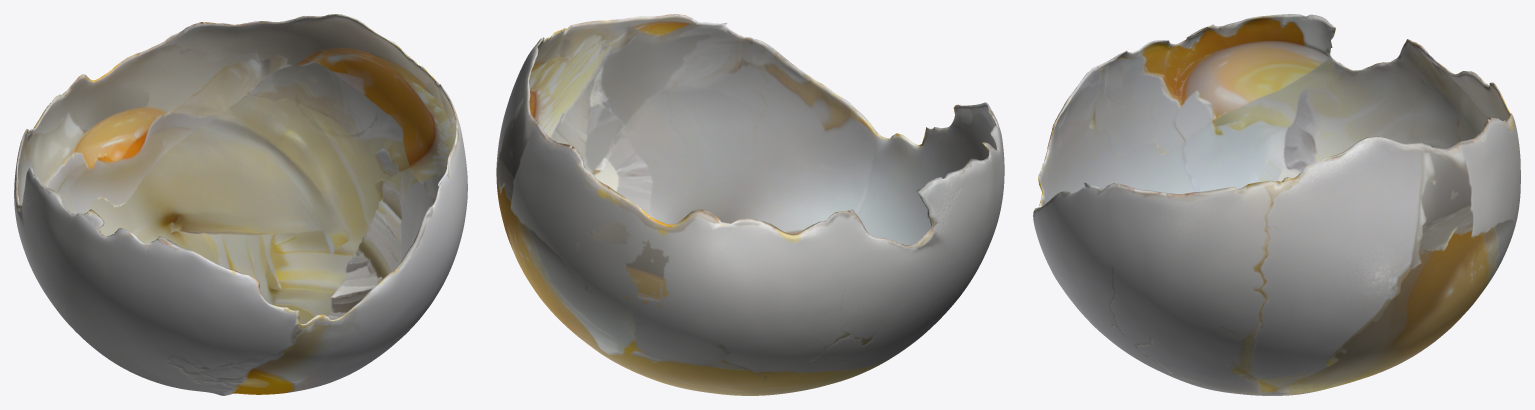
File: Cake2.fbx
3 views of the same model, side by side, from view 1: azimuth 30°, elevation 25°; view 2: azimuth 150°, elevation 25°; view 3: azimuth 270°, elevation 25° (orthographic). The views are drawn at different scales.
Parts seen in each view (by area): view 1: Mesh_0; view 2: Mesh_0; view 3: Mesh_0.
Boxes of the visible parts, left/top/right/bottom form: Mesh_0: left=14, top=14, right=467, bottom=395; Mesh_0: left=496, top=14, right=1004, bottom=395; Mesh_0: left=1033, top=14, right=1520, bottom=395.
Size of the model in its own units: 200 by 139 by 196.
Materials: 1 (1 with a texture image).
